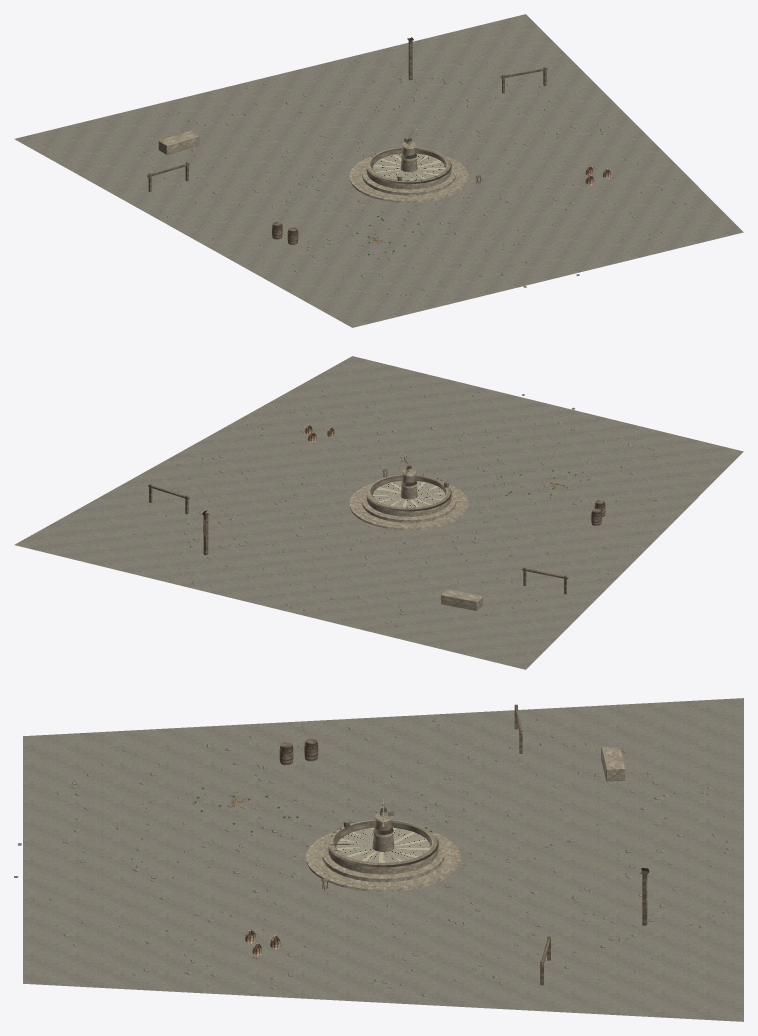
File: market_square.gltf
3 views of the same model, one above another, from view 1: azimuth 30°, elevation 25°; view 2: azimuth 150°, elevation 25°; view 3: azimuth 270°, elevation 25° (orthographic). The views are drawn at different scales.
Visible parts, largest first — view 1: market_square; view 2: market_square; view 3: market_square.
Boxes of the visible parts, <box> form: market_square: <box>14,14,743,327</box>; market_square: <box>14,356,743,669</box>; market_square: <box>14,698,743,1021</box>.
Bounding box in the file's own units: 34 × 3.27 × 32.39.
Materials: 11 (11 with a texture image).
